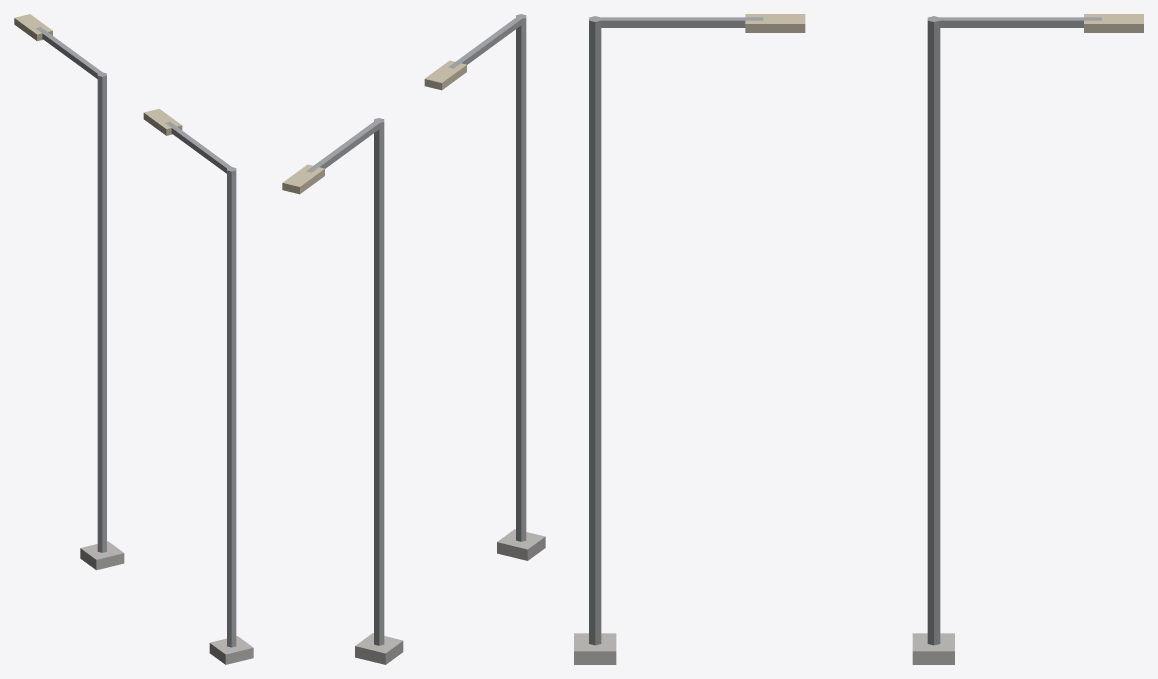
Rendered from 17_street_props-06.glb.
3 renders of one model, left to right at view 1: azimuth 30°, elevation 25°; view 2: azimuth 150°, elevation 25°; view 3: azimuth 270°, elevation 25°, orthographic. The views are drawn at different scales.
Bounding box in the file's own units: 0.45 × 7.47 × 6.06.
